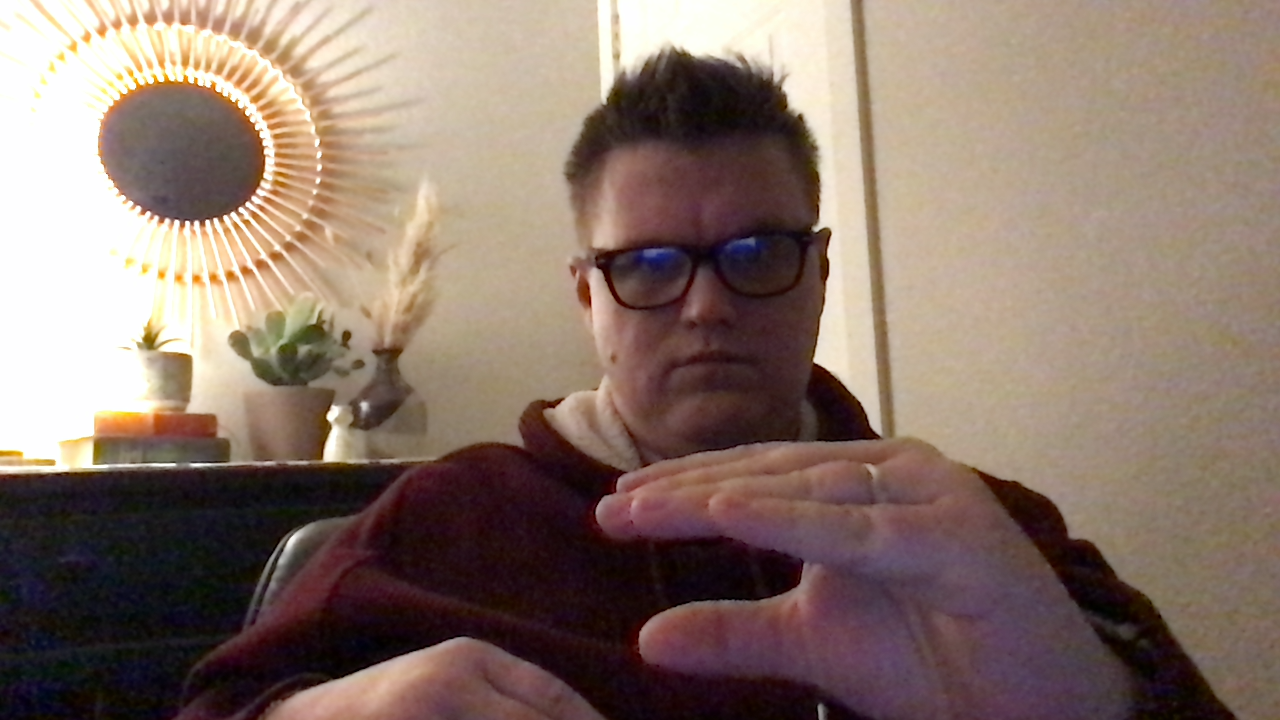no: (591, 433, 1138, 720)
